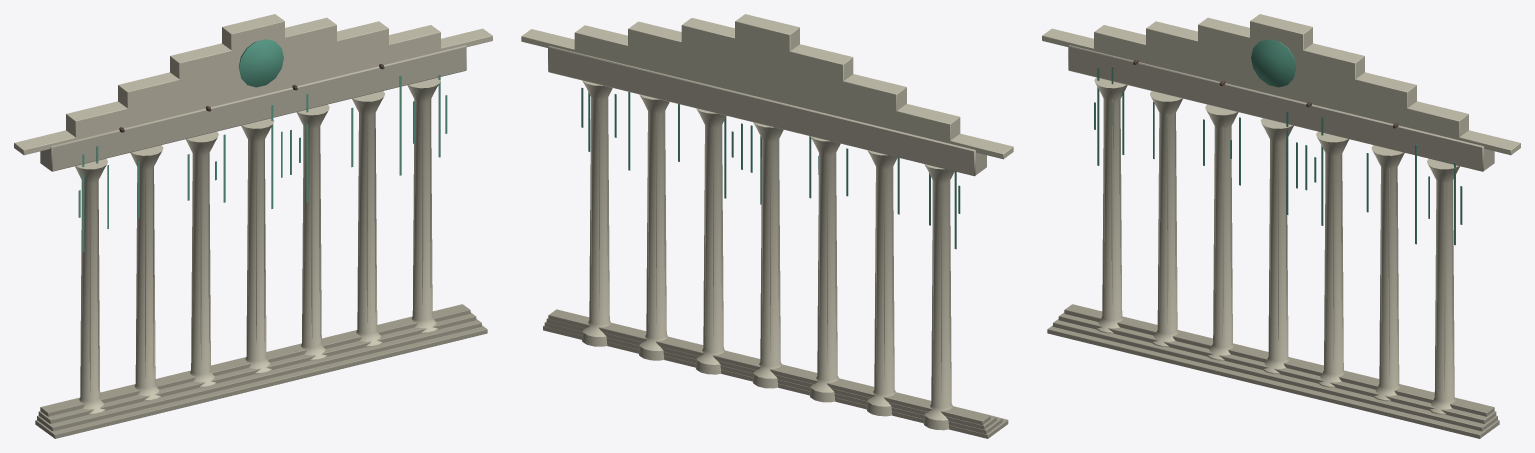
File: civic_front.glb
3 views of the same model, side by side, from view 1: azimuth 30°, elevation 25°; view 2: azimuth 150°, elevation 25°; view 3: azimuth 330°, elevation 25° (orthographic). The views are drawn at different scales.
Parts seen in each view (by area): view 1: civic_front; view 2: civic_front; view 3: civic_front.
Boxes of the visible parts, <box> form: civic_front: <box>14,14,492,438</box>; civic_front: <box>521,14,1013,438</box>; civic_front: <box>1042,14,1520,438</box>.
Size of the model in its own units: 27.1 by 19.27 by 2.4.
